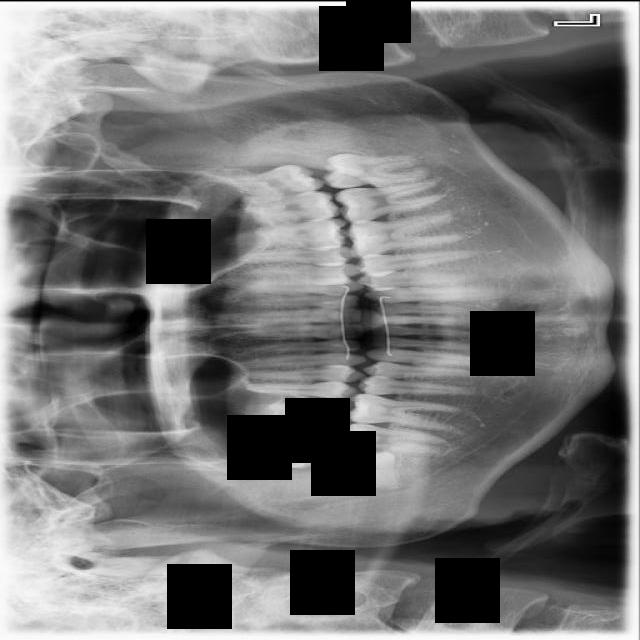3M ESPE Implant: (227, 442, 328, 469)
73: (568, 29, 578, 39)
BioHorizons Implant: (241, 188, 342, 227)
BioLife Implant: (213, 164, 325, 195)
Biomet 3i Implant: (321, 146, 427, 189)
Blue Sky Bio Implant: (333, 177, 444, 226)
Caries: (252, 423, 345, 450)
Implant: (337, 419, 448, 463)
Keystone Dental Implant: (332, 448, 400, 489)
